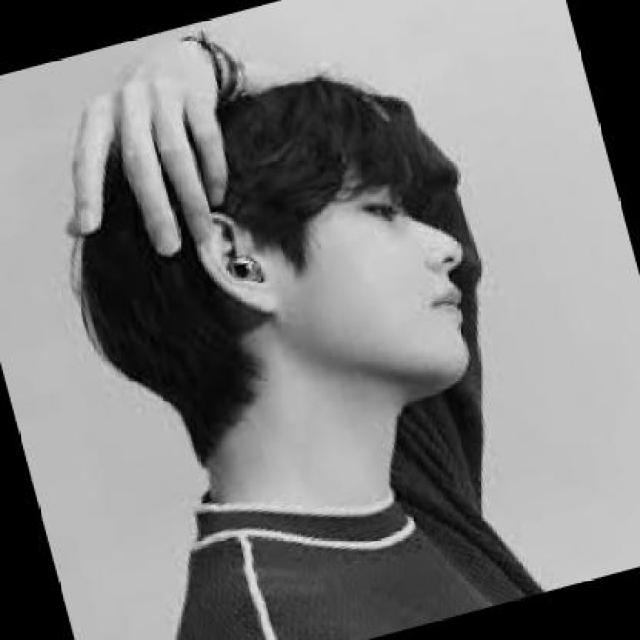earphone: (215, 244, 270, 310)
